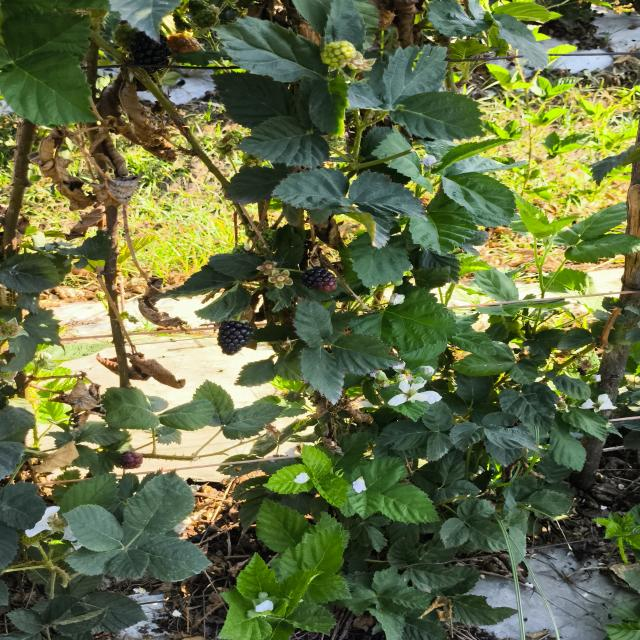flor: (388, 380, 441, 406)
maduro: (218, 320, 253, 355)
marron: (301, 266, 337, 291)
